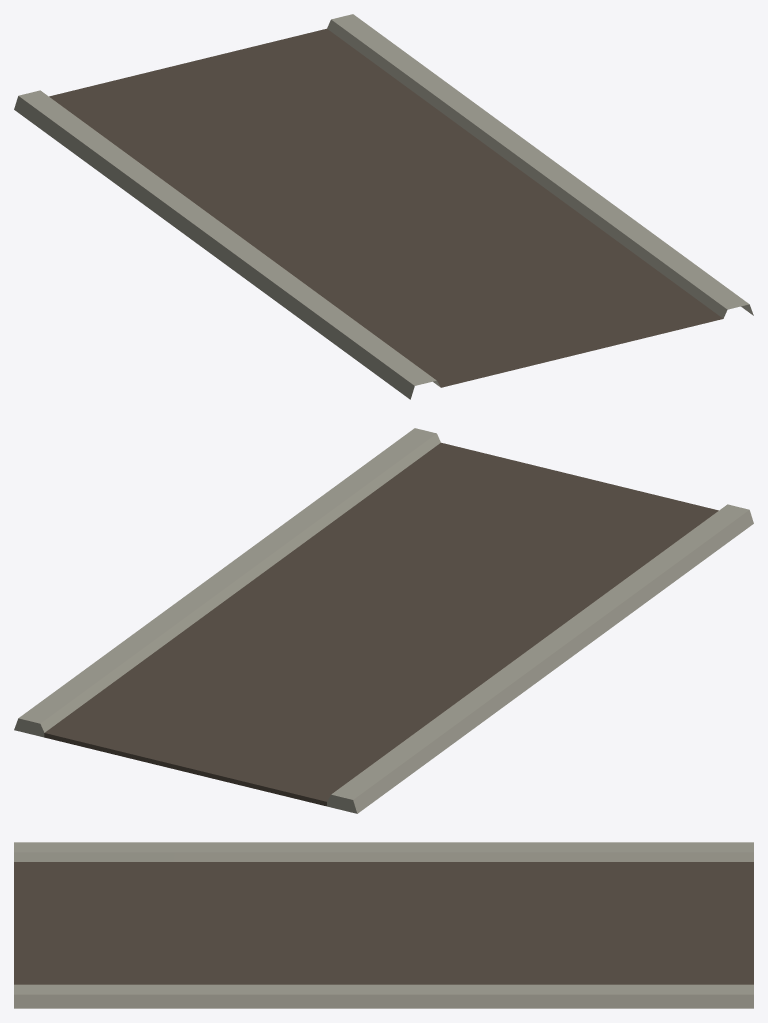
The model's file is ParkRoad_1_B.fbx.
The picture shows the model from 3 angles, top to bottom: view 1: azimuth 30°, elevation 25°; view 2: azimuth 150°, elevation 25°; view 3: azimuth 270°, elevation 25°; orthographic projection. The views are drawn at different scales.
Visible parts, largest first — view 1: ParkRoad_1_B; view 2: ParkRoad_1_B; view 3: ParkRoad_1_B.
Part boxes in pixels (<box>): ParkRoad_1_B: <box>14,14,753,399</box>; ParkRoad_1_B: <box>14,428,753,813</box>; ParkRoad_1_B: <box>14,842,753,1008</box>.
Bounding box in the file's own units: 200 × 7.16 × 400.
